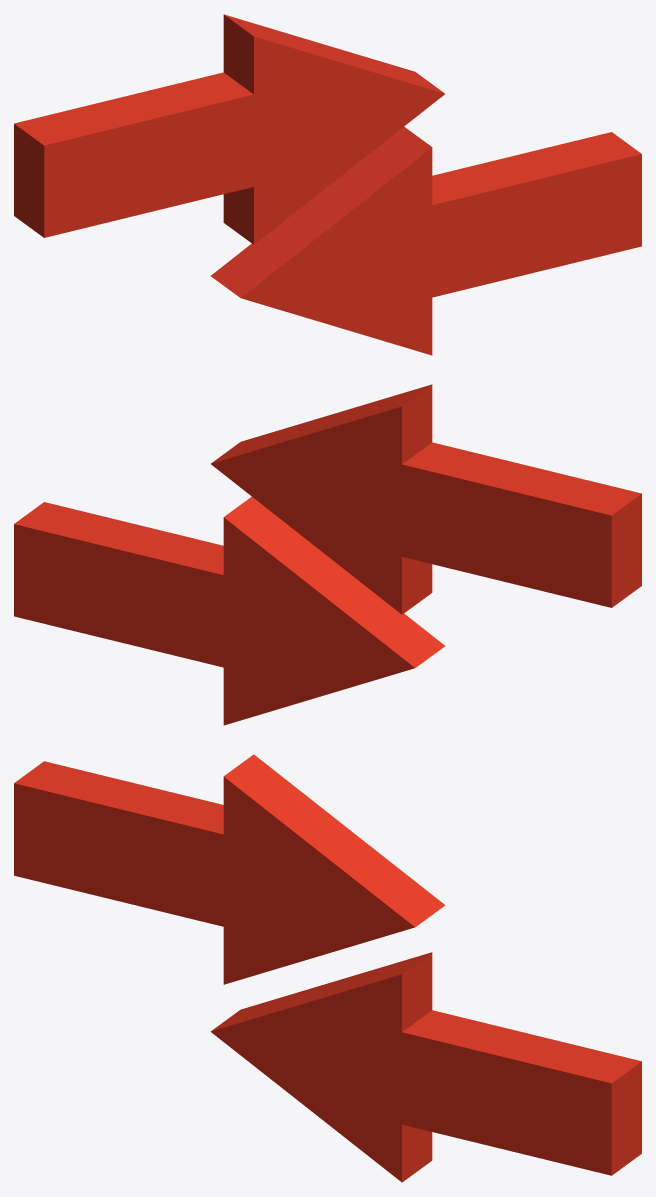
The model's file is Icon_Arrow_07.fbx.
The picture shows the model from 3 angles, top to bottom: view 1: azimuth 30°, elevation 25°; view 2: azimuth 150°, elevation 25°; view 3: azimuth 330°, elevation 25°; orthographic projection.
Visible parts, largest first — view 1: Icon_Arrow_07; view 2: Icon_Arrow_07; view 3: Icon_Arrow_07.
Boxes of the visible parts, x1,y1,x2,y2 form: Icon_Arrow_07: (14, 14, 641, 355); Icon_Arrow_07: (14, 384, 641, 725); Icon_Arrow_07: (14, 754, 641, 1182).
Size of the model in its own units: 138 by 79.92 by 12.06.
